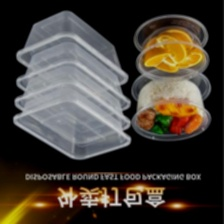plastic_box: (8, 5, 136, 164), (126, 65, 214, 146), (127, 10, 213, 85)
